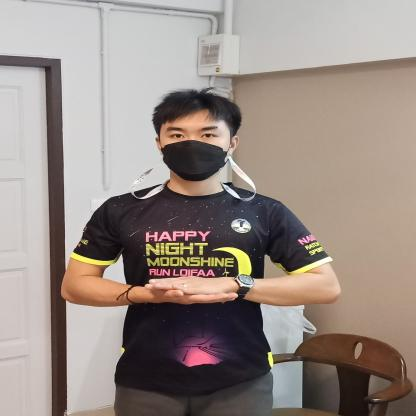Love: (124, 264, 282, 312)
